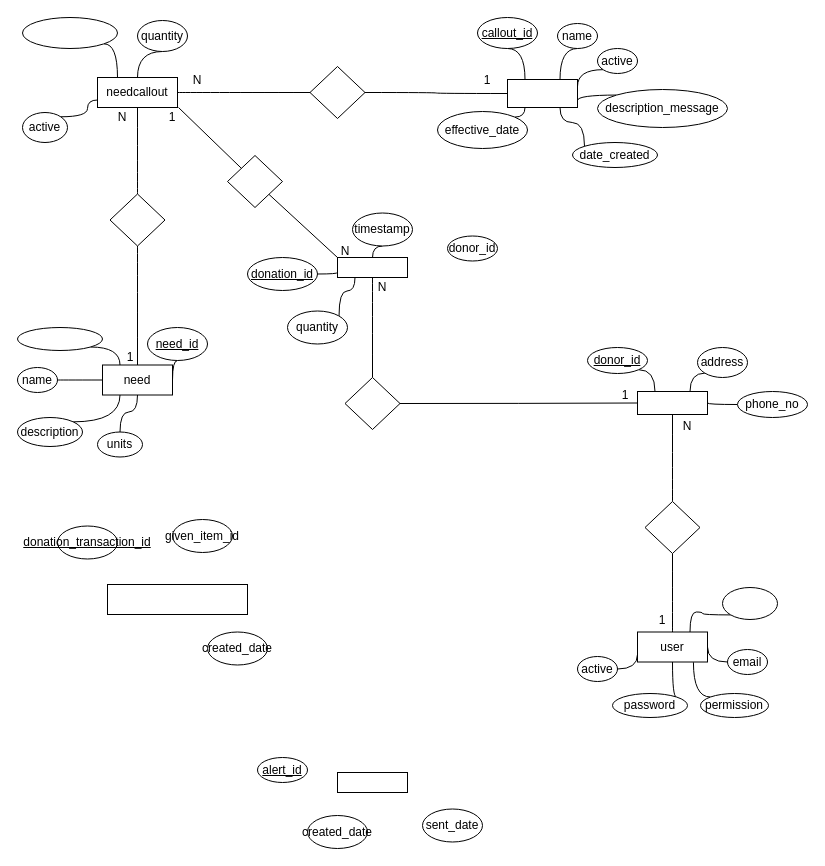
Some shapes in this 825 by 866 pixel diagram are drawn without their labels. Each missing label, with the box of its shape:
alerts: (336, 772, 408, 792)
amazon_link: (16, 326, 102, 350)
callout: (506, 78, 578, 108)
donation: (336, 256, 408, 278)
donation_transaction: (106, 584, 248, 614)
donor: (636, 390, 708, 414)
needcallout_id: (22, 16, 118, 48)
user_id: (722, 586, 778, 620)
